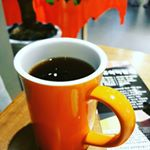cups: (11, 36, 138, 150)
